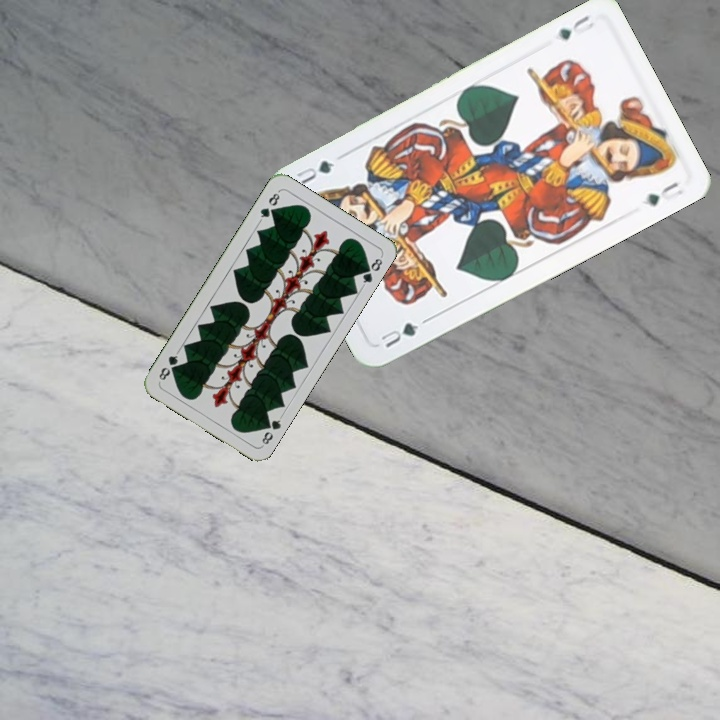G8: (256, 187, 282, 224), (258, 412, 285, 447)
GU: (376, 318, 422, 351), (553, 11, 597, 43)
